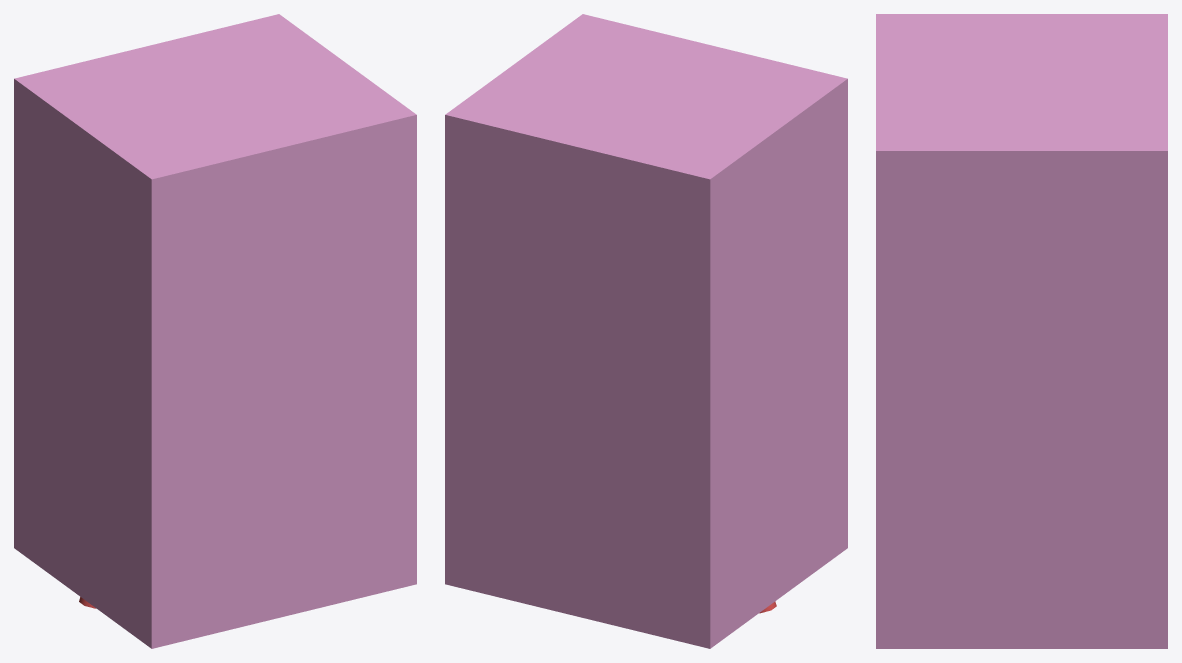
Rendered from palmtree_tall_leaning.DAE.
The picture shows the model from 3 angles, left to right: view 1: azimuth 30°, elevation 25°; view 2: azimuth 150°, elevation 25°; view 3: azimuth 270°, elevation 25°; orthographic projection. The views are drawn at different scales.
Visible parts, largest first — view 1: bounds; view 2: bounds; view 3: bounds.
Part boxes in pixels (left/top/right/bottom): bounds: left=14, top=14, right=416, bottom=648; bounds: left=445, top=14, right=847, bottom=648; bounds: left=876, top=14, right=1167, bottom=648.
Bounding box in the file's own units: 8.6 × 7.74 × 14.98.
